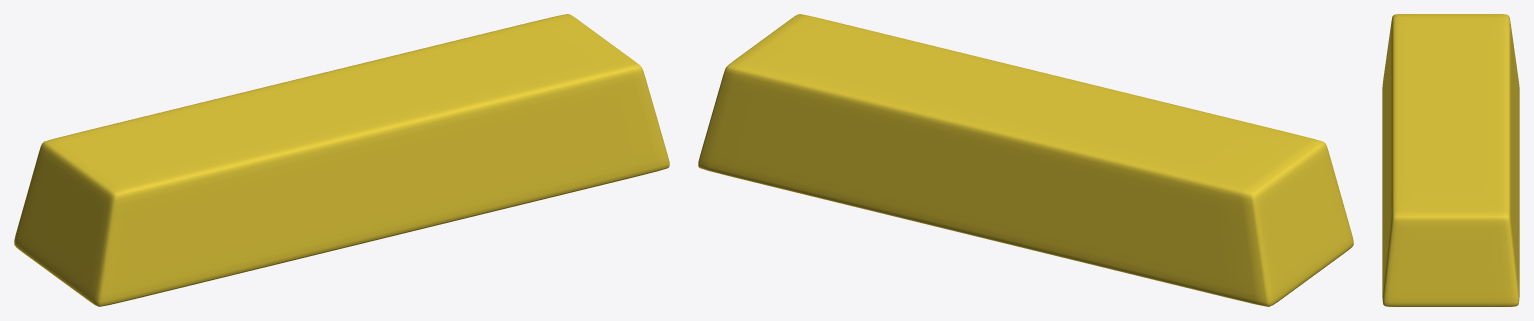
File: Gold Bar.fbx
3 renders of one model, left to right at view 1: azimuth 30°, elevation 25°; view 2: azimuth 150°, elevation 25°; view 3: azimuth 270°, elevation 25°, orthographic. The views are drawn at different scales.
Visible parts, largest first — view 1: Gold; view 2: Gold; view 3: Gold.
Part boxes in pixels (x1=…): Gold: x1=14, y1=14, x2=669, y2=306; Gold: x1=698, y1=14, x2=1353, y2=306; Gold: x1=1382, y1=14, x2=1519, y2=306.
Bounding box in the file's own units: 64.63 × 11.4 × 16.98.
